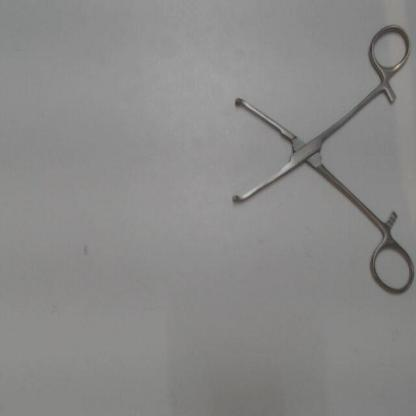Allis Tissue Forceps: (228, 18, 416, 298)
